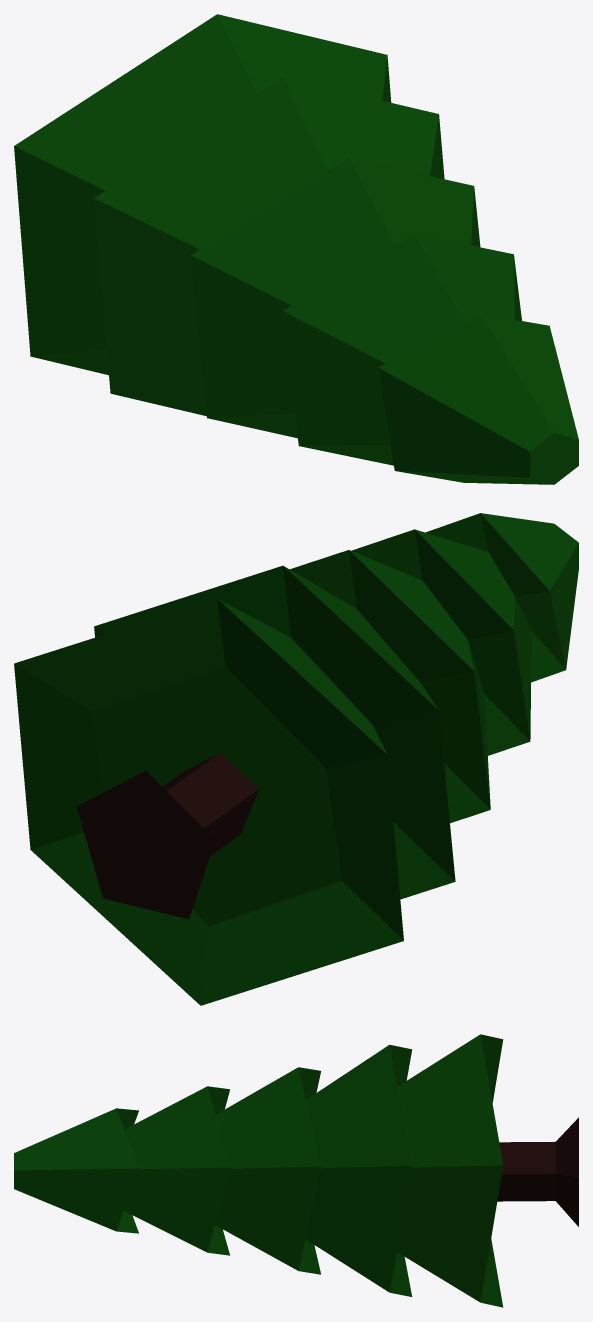
3 renders of one model, top to bottom at view 1: azimuth 30°, elevation 25°; view 2: azimuth 150°, elevation 25°; view 3: azimuth 270°, elevation 25°, orthographic. The views are drawn at different scales.
Parts seen in each view (by area): view 1: forest7_1; view 2: forest7_1; view 3: forest7_1.
Boxes of the visible parts, x1,y1,x2,y2 form: forest7_1: [14, 14, 578, 484]; forest7_1: [14, 513, 578, 1005]; forest7_1: [14, 1034, 578, 1307].
Size of the model in its own units: 192 by 363 by 194.
